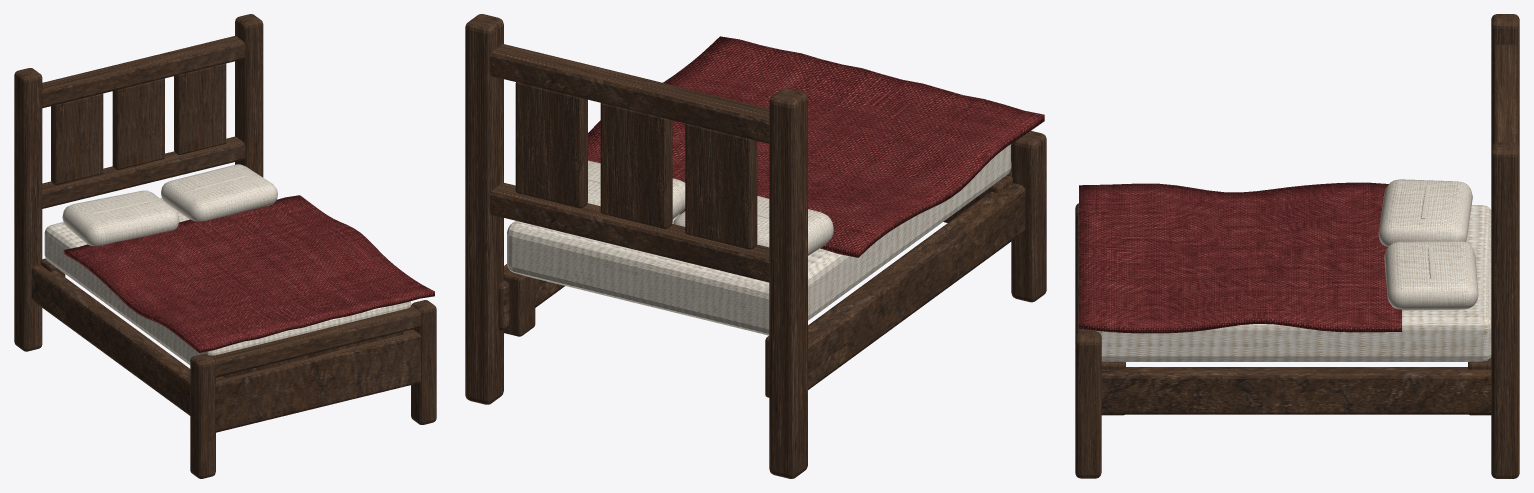
File: bed_before_duvet_drape.glb
3 views of the same model, side by side, from view 1: azimuth 30°, elevation 25°; view 2: azimuth 150°, elevation 25°; view 3: azimuth 270°, elevation 25° (orthographic). The views are drawn at different scales.
Parts seen in each view (by area): view 1: Duvet_Uneven_Overhang, Footboard_LowerRail, HeadPost_Left, SideRail_Left, Headboard_TopRail, Mattress, Footboard_TopRail, Headboard_BottomRail, Pillow_Right, Pillow_Left, Headboard_Inset_Left, Headboard_Inset_Centre (+5 smaller); view 2: Duvet_Uneven_Overhang, Mattress, HeadPost_Left, HeadPost_Right, SideRail_Left, Headboard_TopRail, Headboard_BottomRail, Headboard_Inset_Right, Headboard_Inset_Left, Headboard_Inset_Centre, FootPost_Left, RailJoint_R_Head (+3 smaller); view 3: Duvet_Uneven_Overhang, SideRail_Right, Mattress, HeadPost_Right, Pillow_Right, Pillow_Left, FootPost_Right, Headboard_TopRail, HeadPost_Left.
Part boxes in pixels (left/top/right/bottom): Duvet_Uneven_Overhang: left=64, top=195, right=434, bottom=352; Footboard_LowerRail: left=215, top=329, right=420, bottom=432; HeadPost_Left: left=14, top=68, right=42, bottom=351; SideRail_Left: left=31, top=265, right=190, bottom=415; Headboard_TopRail: left=42, top=35, right=245, bottom=108; Mattress: left=44, top=198, right=411, bottom=364; Footboard_TopRail: left=209, top=305, right=421, bottom=377; Headboard_BottomRail: left=42, top=136, right=245, bottom=208; Pillow_Right: left=161, top=164, right=277, bottom=221; Pillow_Left: left=62, top=190, right=179, bottom=246; Headboard_Inset_Left: left=51, top=93, right=103, bottom=184; Headboard_Inset_Centre: left=112, top=78, right=164, bottom=169; Duvet_Uneven_Overhang: left=588, top=36, right=1044, bottom=257; Mattress: left=507, top=144, right=1011, bottom=335; HeadPost_Left: left=769, top=88, right=807, bottom=478; HeadPost_Right: left=465, top=14, right=503, bottom=404; SideRail_Left: left=808, top=183, right=1025, bottom=389; Headboard_TopRail: left=489, top=44, right=769, bottom=143; Headboard_BottomRail: left=489, top=182, right=769, bottom=282; Headboard_Inset_Right: left=515, top=82, right=587, bottom=208; Headboard_Inset_Left: left=685, top=123, right=757, bottom=249; Headboard_Inset_Centre: left=600, top=103, right=672, bottom=228; FootPost_Left: left=1011, top=131, right=1046, bottom=302; RailJoint_R_Head: left=503, top=268, right=535, bottom=336; Duvet_Uneven_Overhang: left=1079, top=182, right=1401, bottom=333; SideRail_Right: left=1101, top=367, right=1491, bottom=414; Mattress: left=1093, top=205, right=1491, bottom=361; HeadPost_Right: left=1491, top=142, right=1519, bottom=478; Pillow_Right: left=1384, top=241, right=1478, bottom=310; Pillow_Left: left=1378, top=179, right=1472, bottom=246; FootPost_Right: left=1075, top=331, right=1101, bottom=478; Headboard_TopRail: left=1493, top=44, right=1517, bottom=143; HeadPost_Left: left=1491, top=14, right=1519, bottom=147.
Bounding box in the file's own units: 1.5 × 1.64 × 2.01.
Materials: 4 (4 with a texture image).
